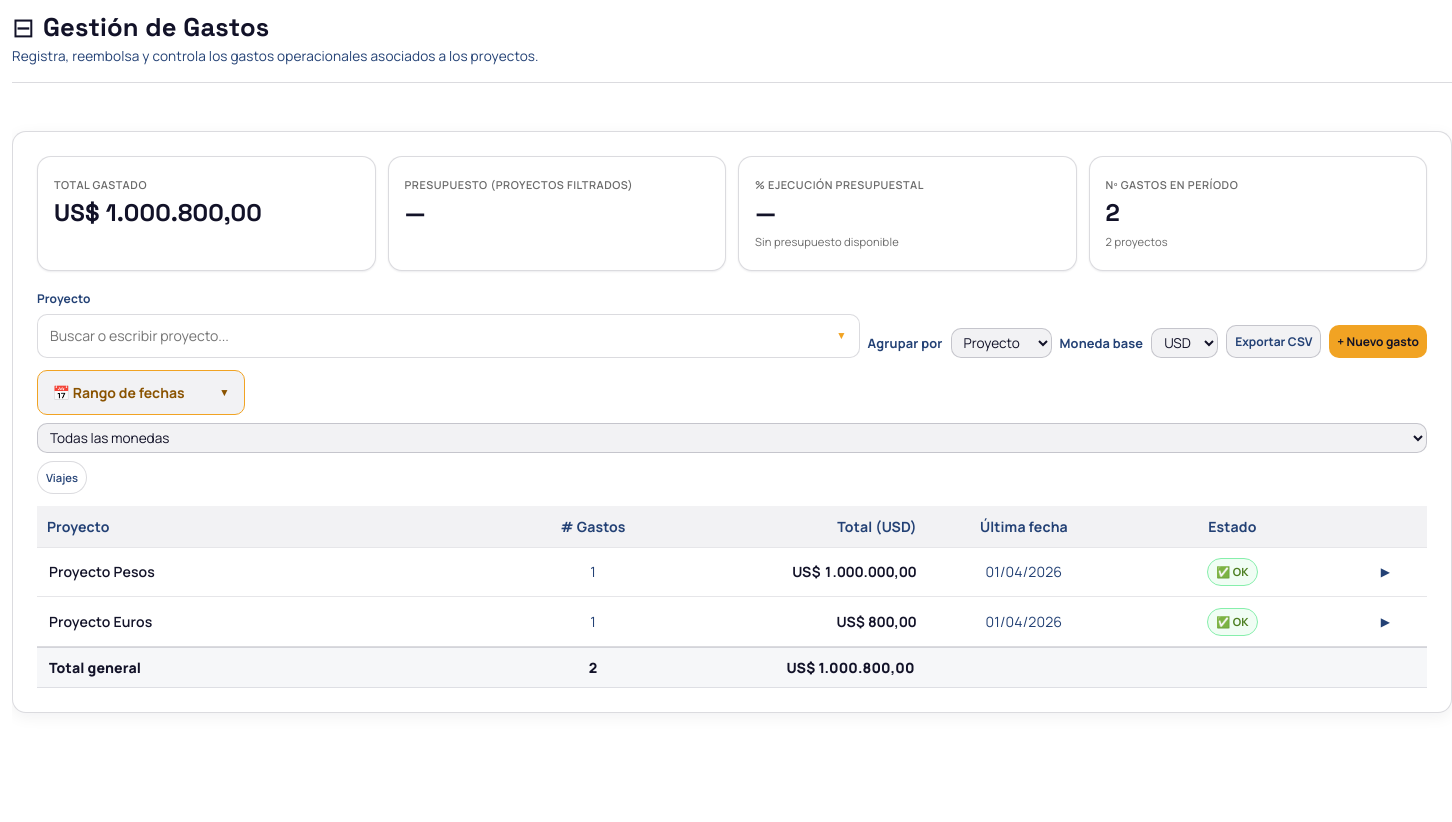
Buscador de proyecto en Gastos (R-027) › al elegir un proyecto de la lista, la vista se queda solo con sus gastos
Click the field with placeholder "Buscar o escribir proyecto...".
click(443, 336)  # box left=50, top=324, right=836, bottom=348
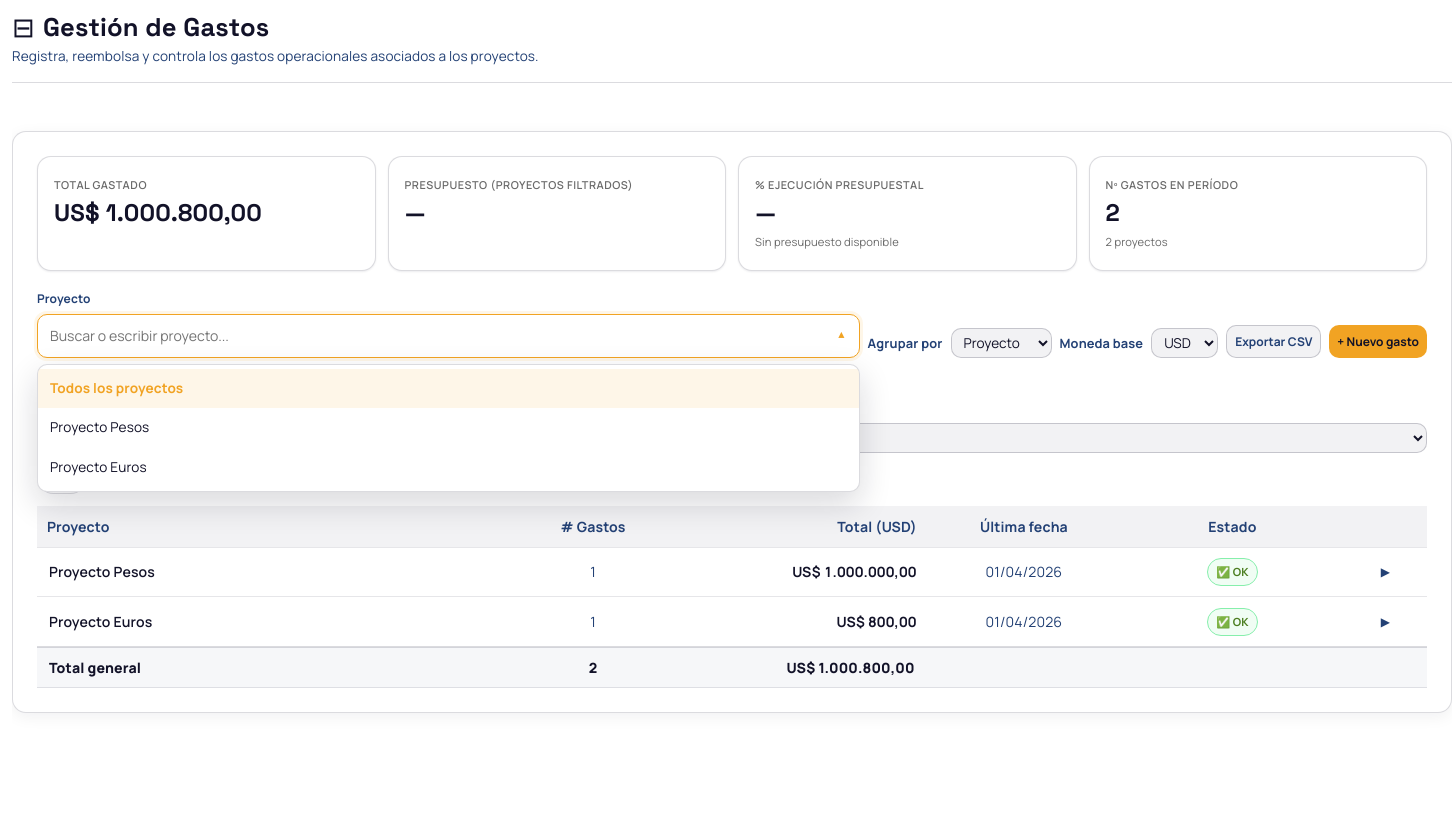
Click the text "Proyecto Euros".
click(98, 467)  # box left=50, top=456, right=147, bottom=479
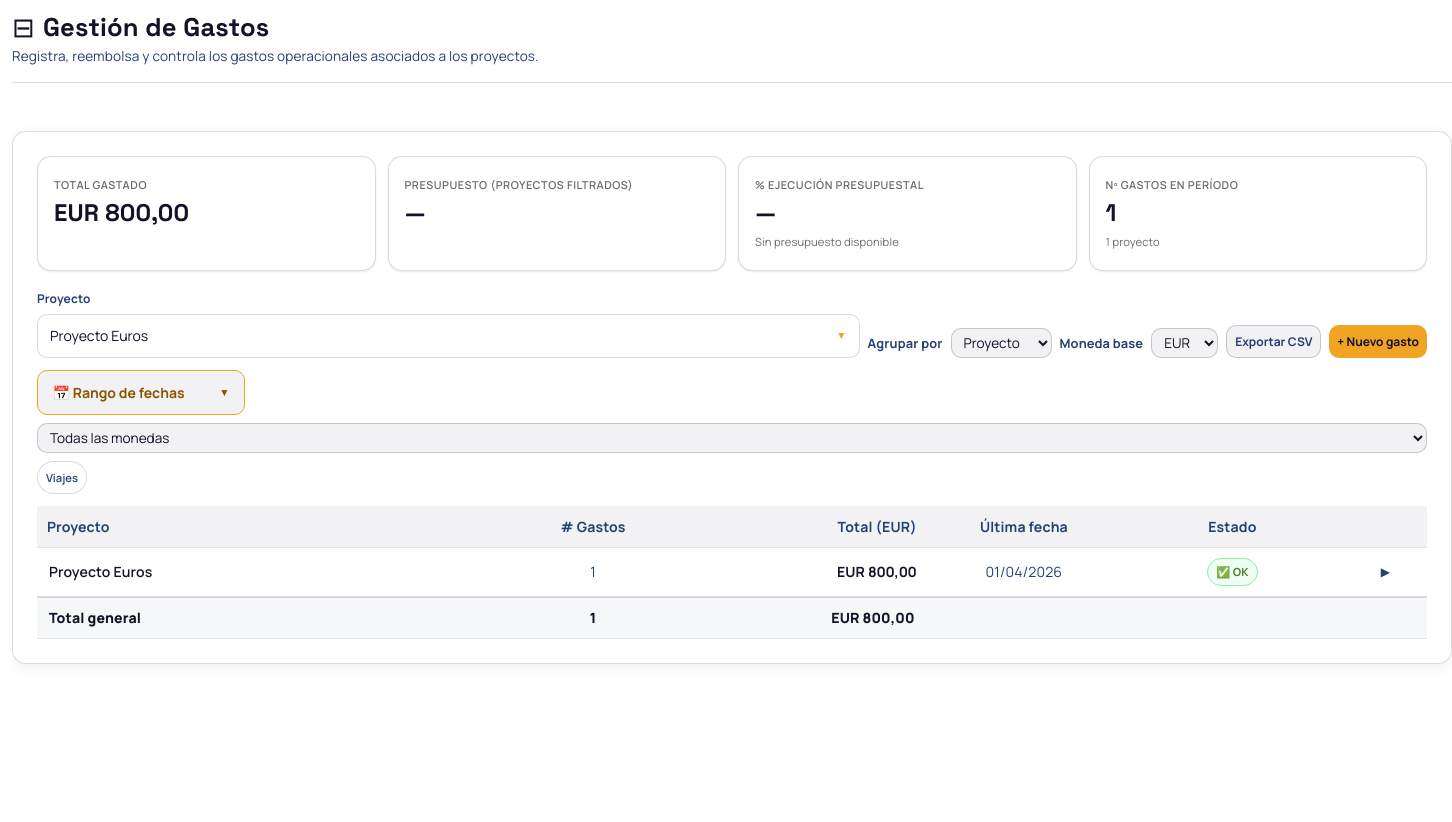
Check: the dropdown labelled "Moneda base" shows "EUR", box left=1151, top=328, right=1218, bottom=358
